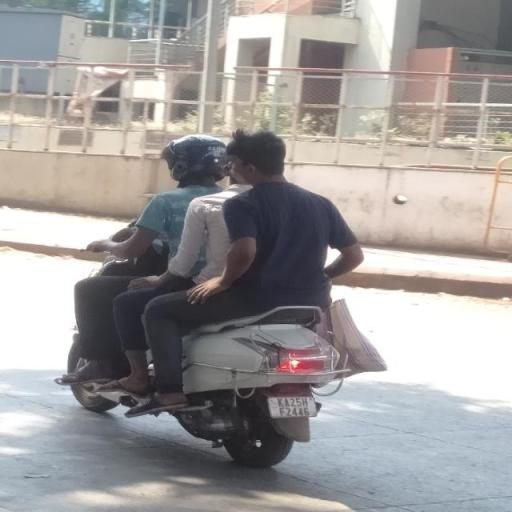tripple riding: (104, 129, 362, 319)
